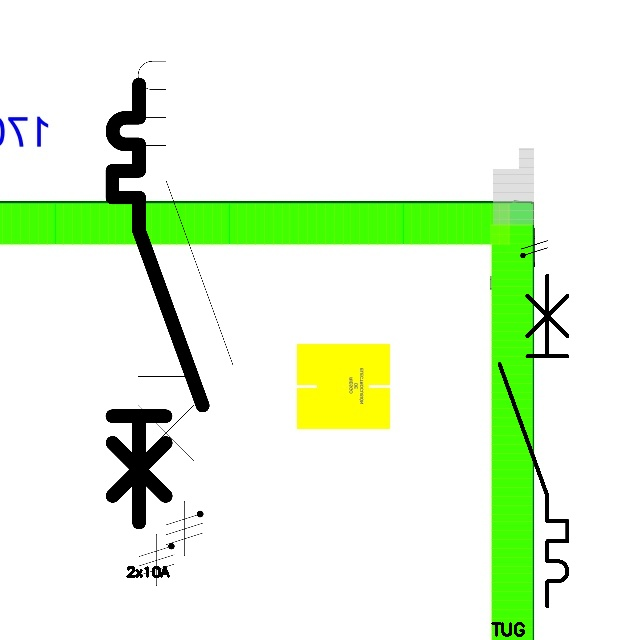interruptor_termomagnetico: (126, 14, 245, 501), (101, 73, 214, 534), (491, 267, 576, 614)
